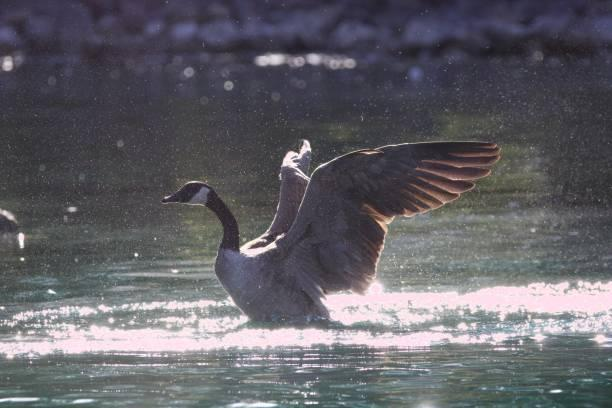Canadian-Goose: (165, 134, 501, 327)
